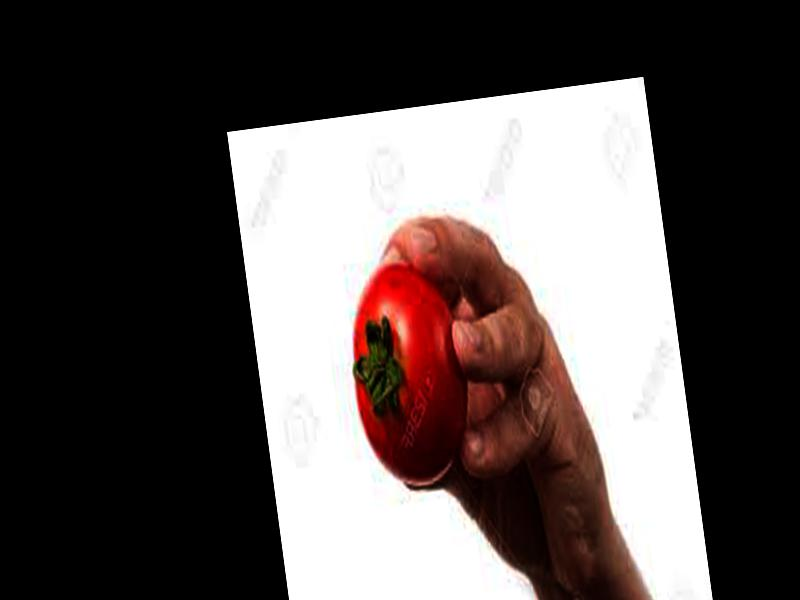Tomato: (339, 257, 477, 490)
